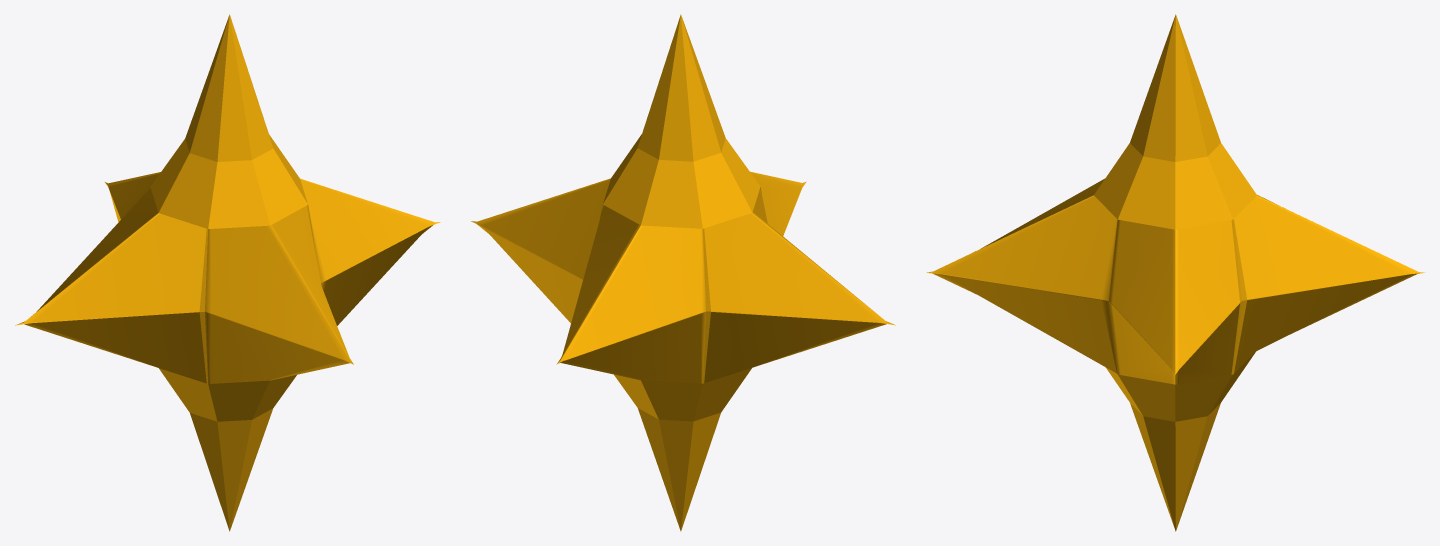
File: LightObj_Y.gltf
3 renders of one model, left to right at view 1: azimuth 30°, elevation 25°; view 2: azimuth 150°, elevation 25°; view 3: azimuth 270°, elevation 25°, orthographic.
Visible parts, largest first — view 1: LightObj_Y; view 2: LightObj_Y; view 3: LightObj_Y.
Part boxes in pixels (left/top/right/bottom): LightObj_Y: left=15, top=14, right=440, bottom=531; LightObj_Y: left=471, top=14, right=895, bottom=531; LightObj_Y: left=926, top=14, right=1424, bottom=531.
Bounding box in the file's own units: 5.23 × 6.06 × 5.31.
